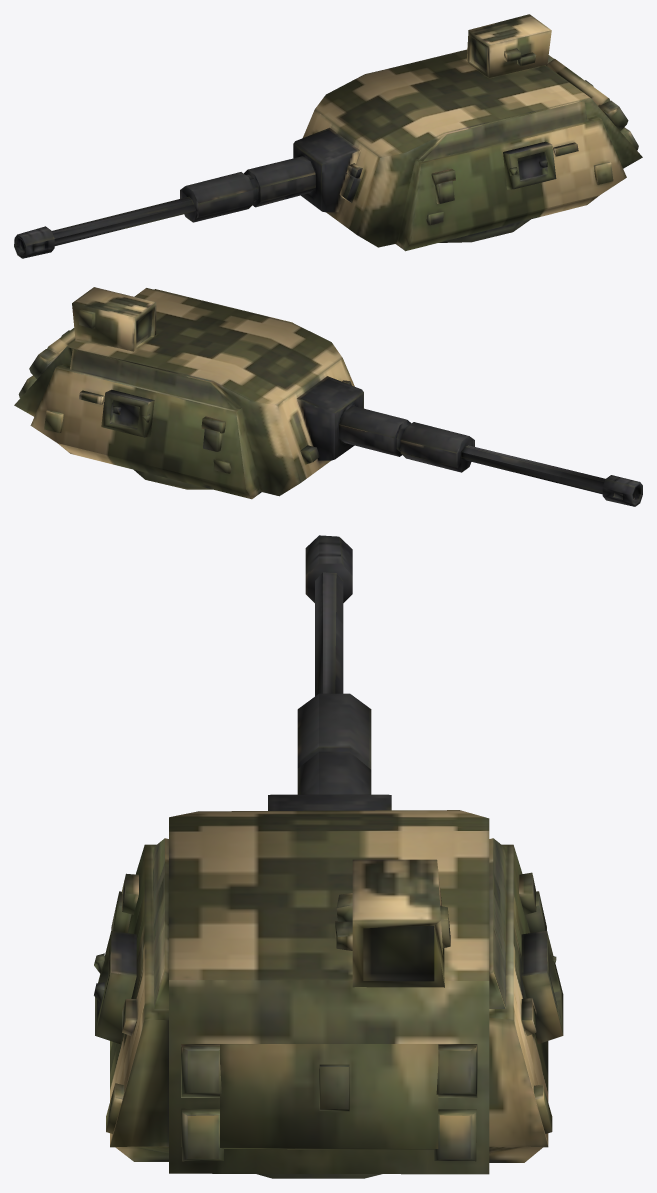
Rendered from tank_turret.fbx.
3 views of the same model, one above another, from view 1: azimuth 30°, elevation 25°; view 2: azimuth 150°, elevation 25°; view 3: azimuth 270°, elevation 25° (orthographic). The views are drawn at different scales.
Visible parts, largest first — view 1: Tank_Turret; view 2: Tank_Turret; view 3: Tank_Turret.
Boxes of the visible parts, left/top/right/bottom form: Tank_Turret: left=14, top=14, right=642, bottom=258; Tank_Turret: left=14, top=287, right=642, bottom=506; Tank_Turret: left=94, top=535, right=563, bottom=1178.
Bounding box in the file's own units: 0.4907 × 0.1167 × 0.1709.
